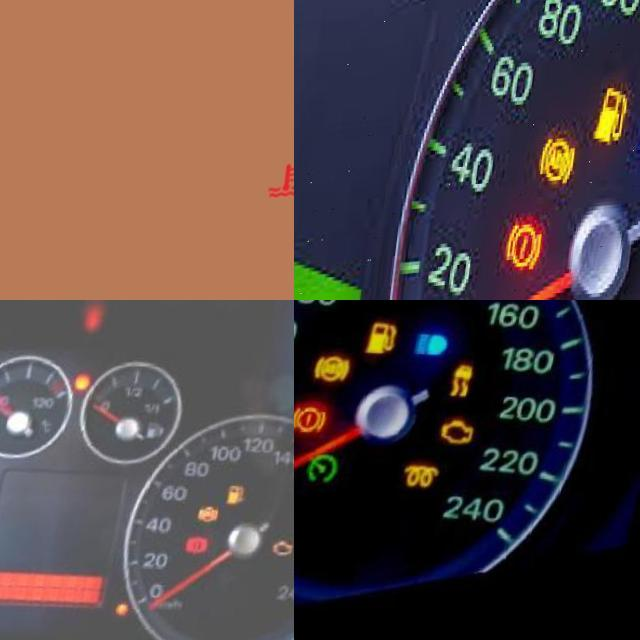High Engine Coolant Temperature: (268, 166, 294, 217)
Low fuel level: (363, 318, 409, 365), (236, 481, 259, 506)
